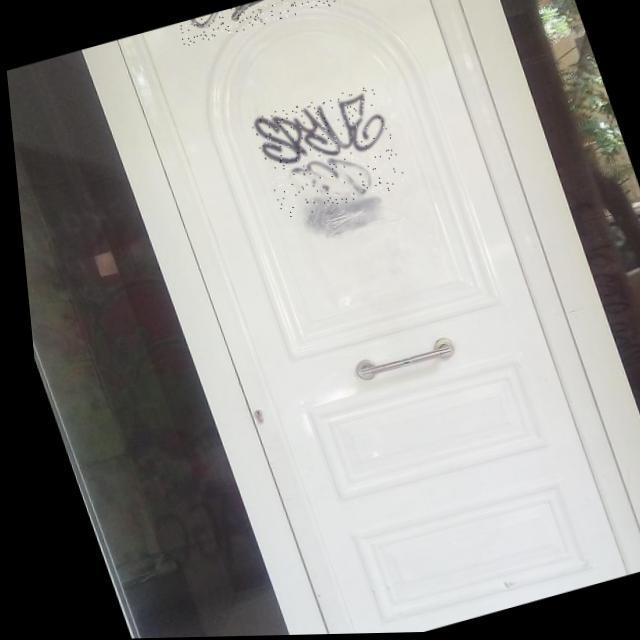-: (244, 85, 406, 222), (173, 0, 423, 47)
